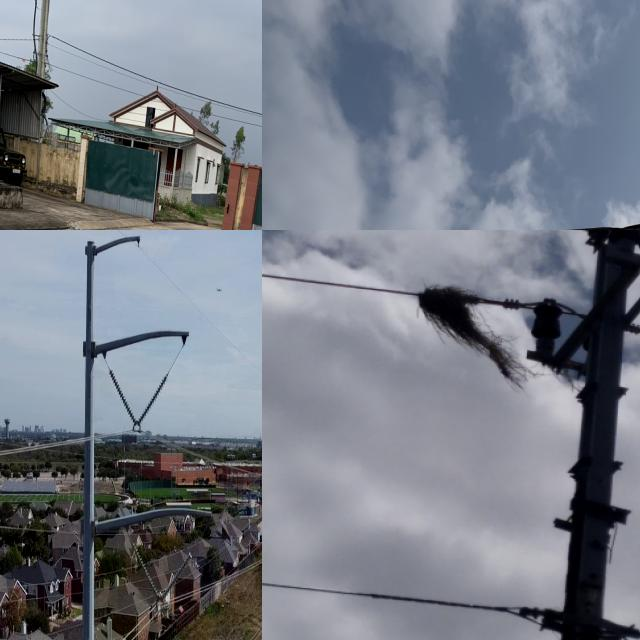植被遮挡: (409, 285, 547, 393)
正常绝缘子: (129, 364, 177, 440), (126, 531, 165, 605), (155, 544, 198, 611), (105, 358, 142, 434)
电缆破损: (330, 184, 640, 230)
